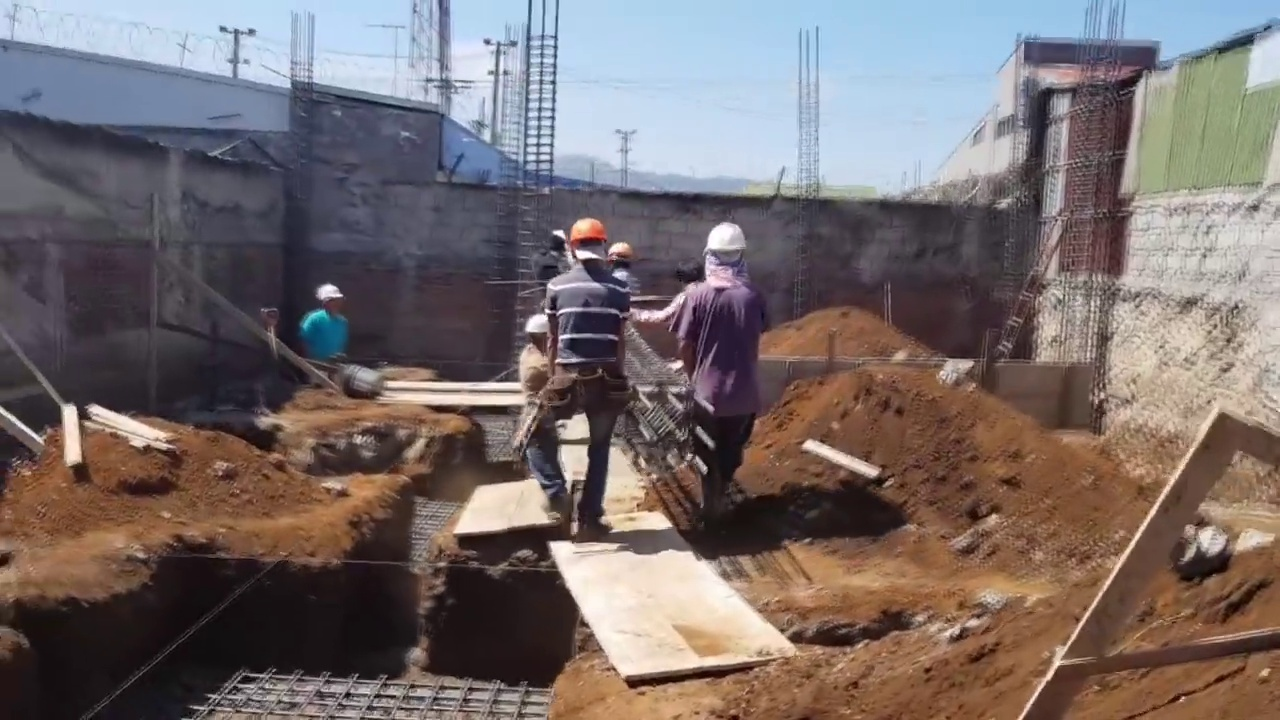helmet: (703, 219, 749, 264), (566, 215, 609, 245), (312, 282, 345, 302), (523, 316, 552, 338), (608, 242, 635, 261)
helmet-off: (675, 258, 703, 294), (546, 232, 564, 256)
helmet-on: (705, 219, 751, 288), (561, 215, 614, 272), (310, 283, 342, 319), (523, 315, 551, 352), (608, 242, 635, 272)
person: (530, 226, 635, 543), (676, 223, 767, 544), (629, 257, 707, 343), (290, 280, 349, 368), (516, 316, 553, 427), (529, 230, 566, 286)
